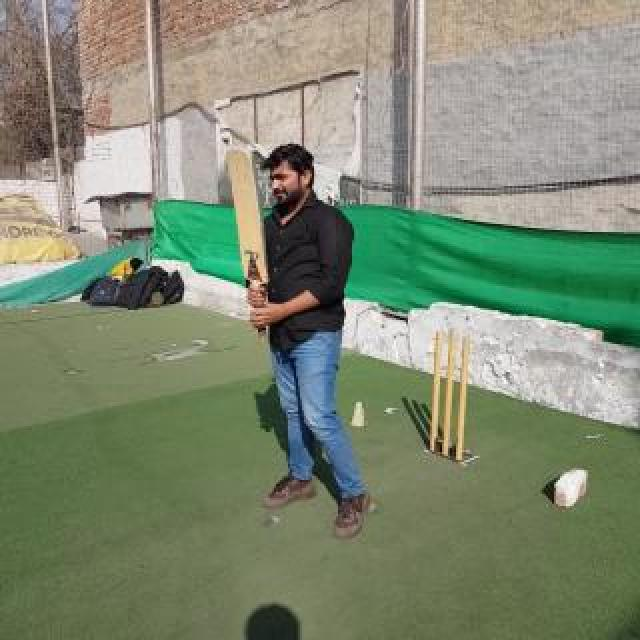bat: (226, 145, 272, 343)
